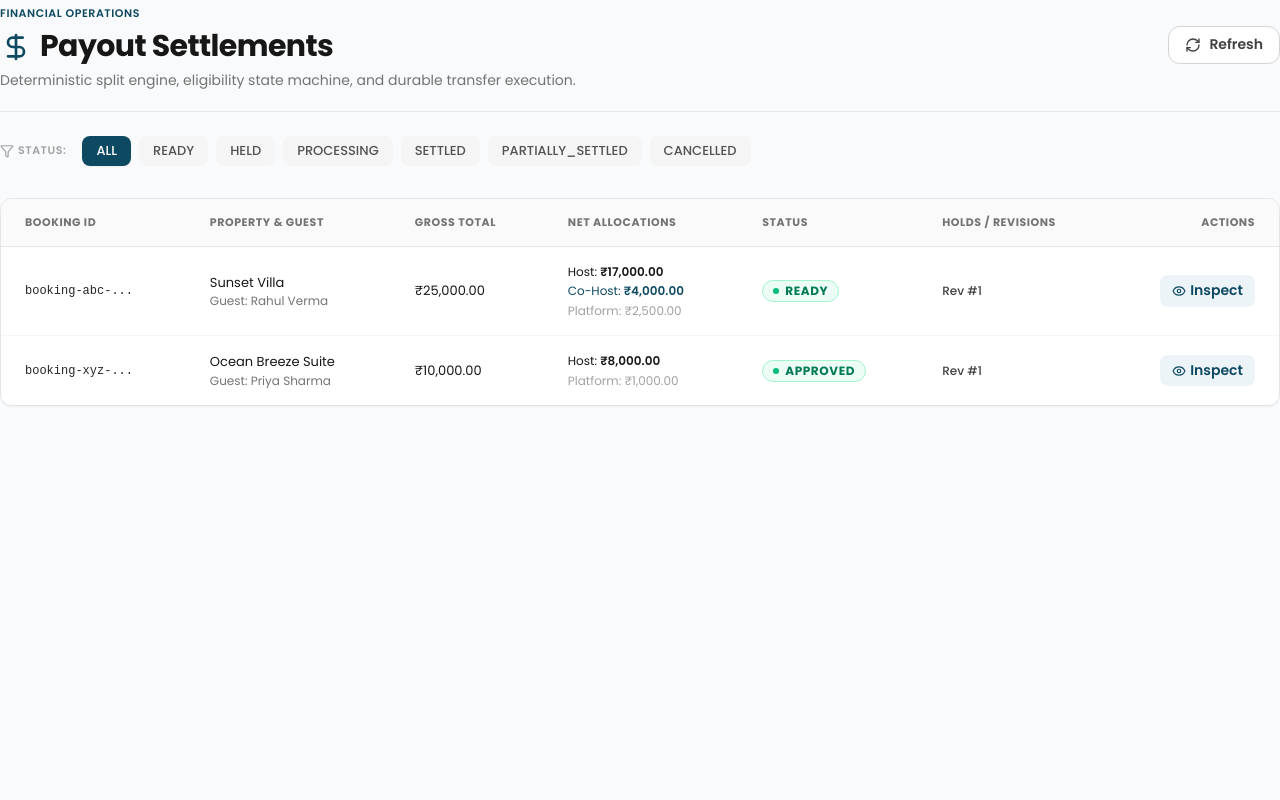
Scenario: Admin Settlements Inspect Regression Suite › C. Handles missing optional data honestly without crashing
This screenshot has width=1280, height=800.
Expected: the text "booking-abc-..." is shown, [25,284,133,298]
Click the button "Inspect" in the row of "booking-abc-" at (1208, 291), box [1160,275,1255,307]
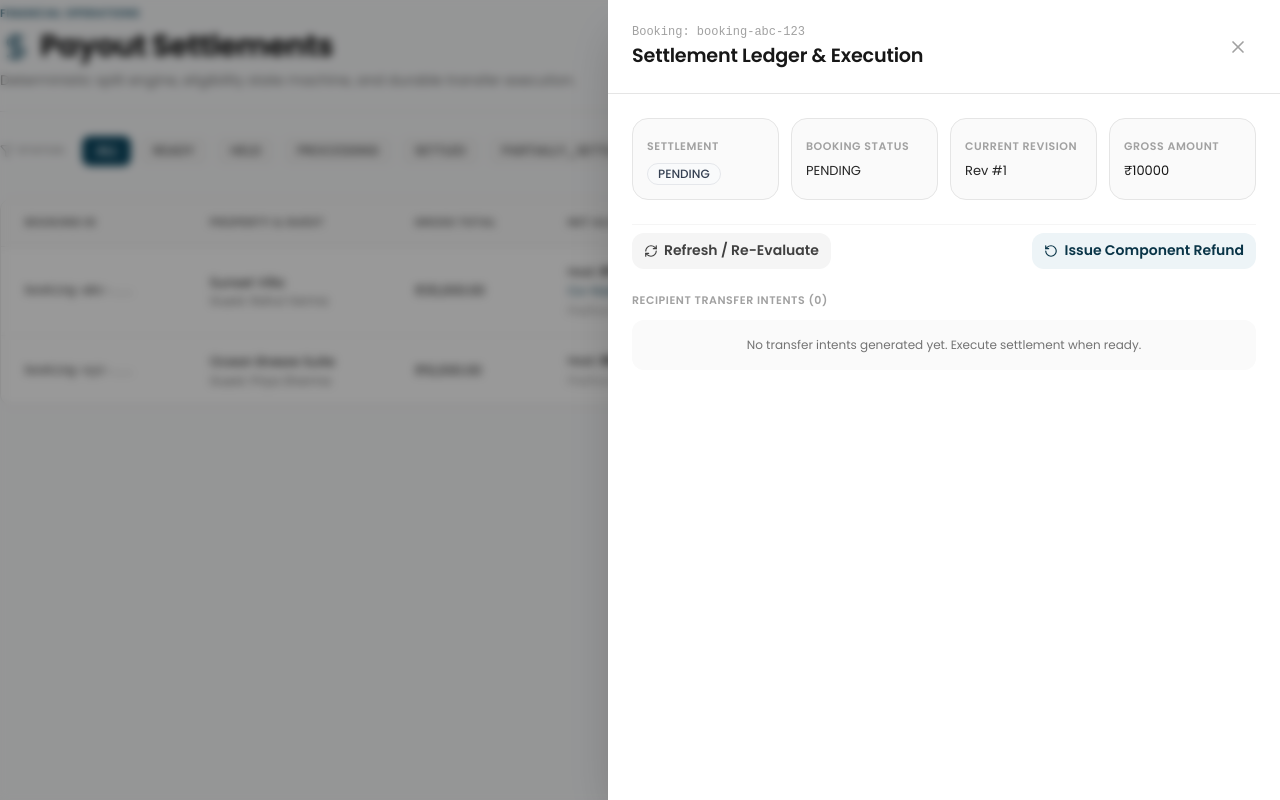
Now the heading "Settlement Ledger & Execution" is shown, box [632,43,923,69]
Now the text "No transfer intents generated yet" is shown, box [747,336,1141,353]
